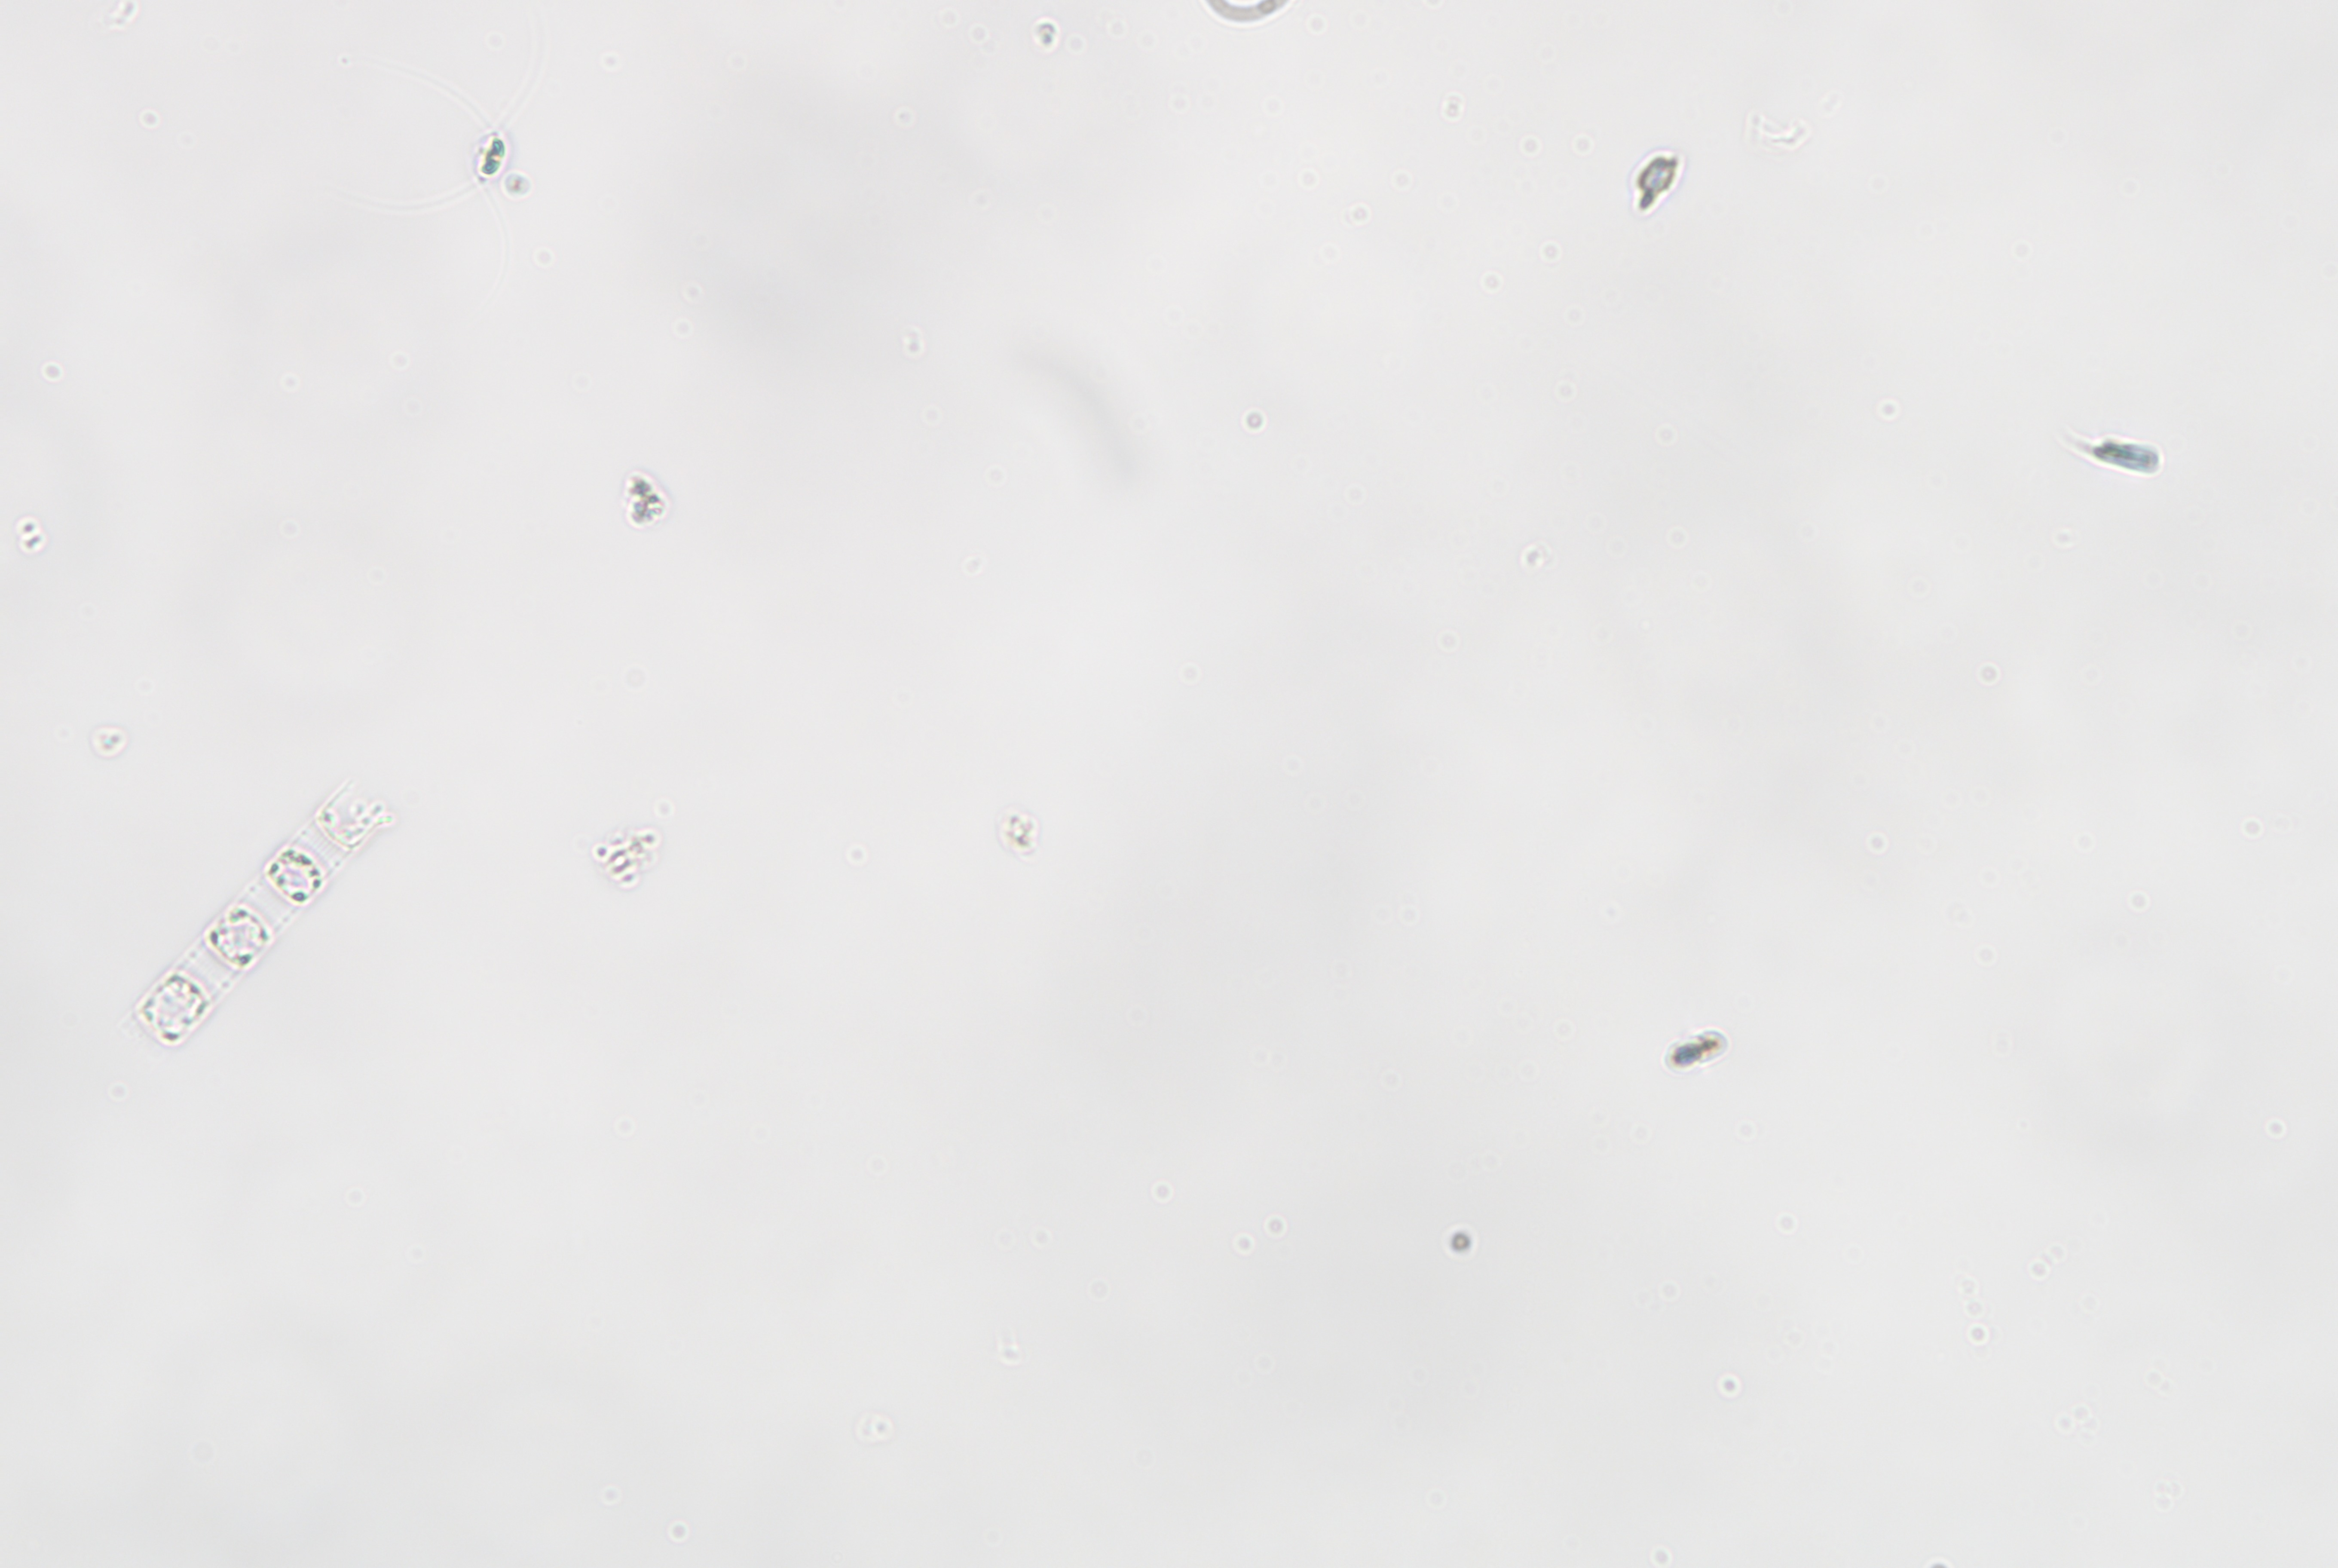skeletonema: (135, 782, 387, 1057)
